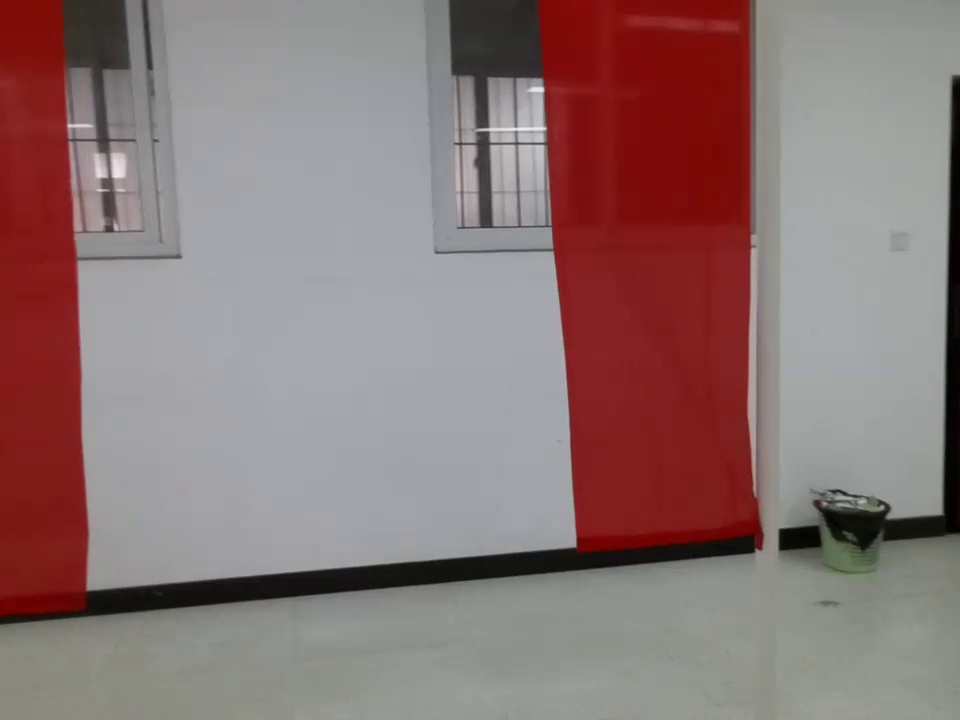qi: (516, 1, 787, 559), (1, 1, 86, 615)
